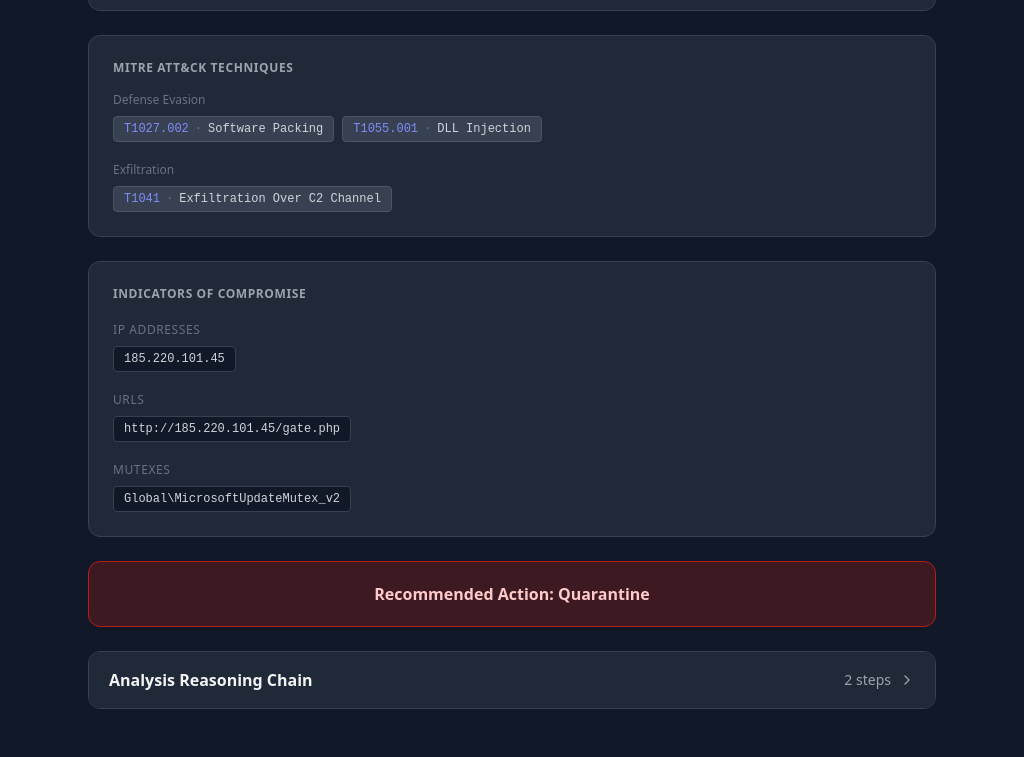
Report page › reasoning chain expands when the toggle is clicked
(page scrolled)
Click the button with test id "reasoning-chain-toggle" at (211, 680), box [89,652,935,708]
(page scrolled)
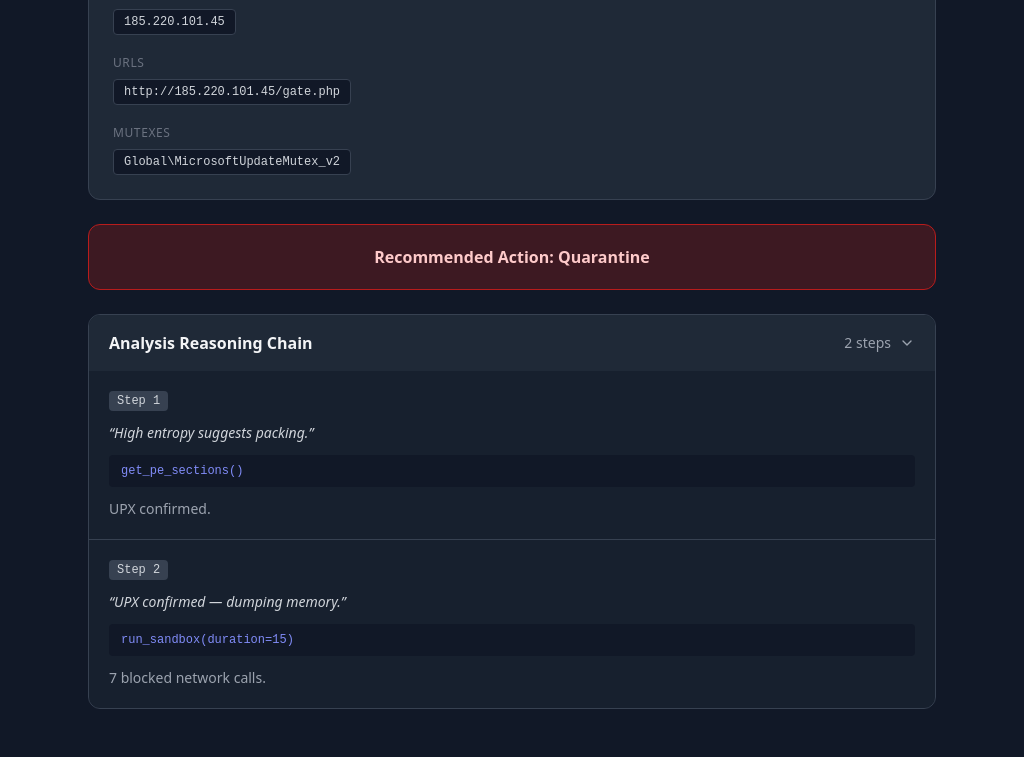
Expected: the element with test id "reasoning-chain-body" is shown, [89,371,935,708]
Expected: the text "“High entropy suggests packing.”" is shown, [109,423,313,442]
